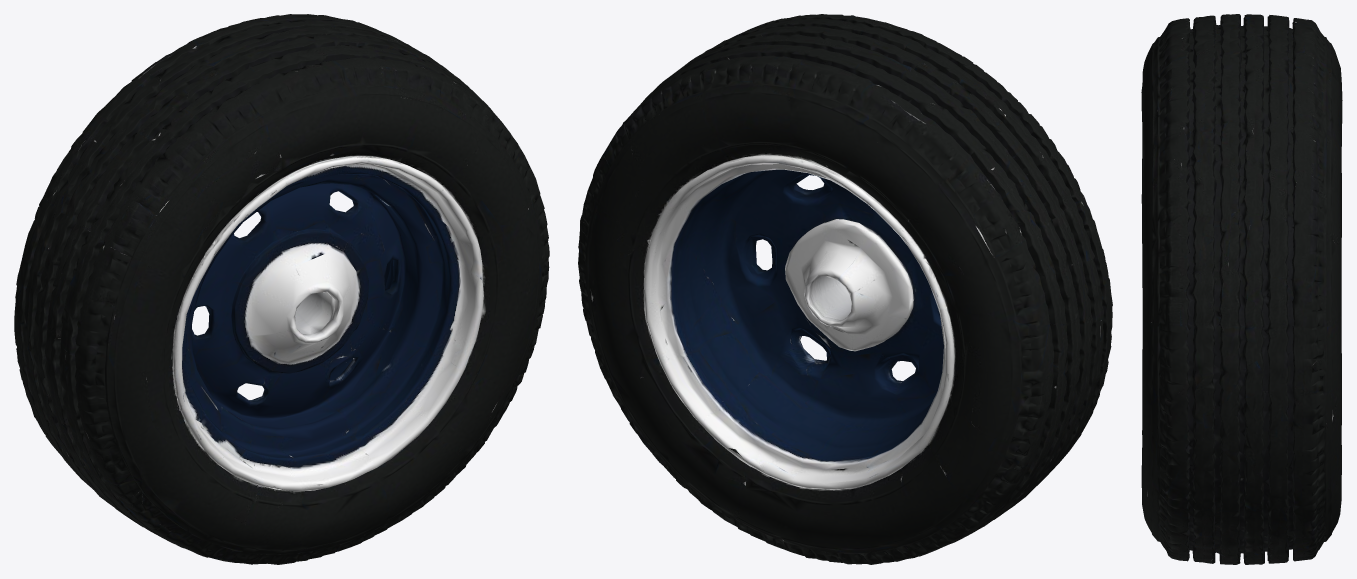
The model's file is Meshy_AI_Classic_Truck_Tire_20261118_texture_41460tris.glb.
3 renders of one model, left to right at view 1: azimuth 30°, elevation 25°; view 2: azimuth 150°, elevation 25°; view 3: azimuth 270°, elevation 25°, orthographic.
Visible parts, largest first — view 1: Mesh_0; view 2: Mesh_0; view 3: Mesh_0.
Part boxes in pixels (<box>): Mesh_0: <box>14,14,549,564</box>; Mesh_0: <box>578,14,1112,564</box>; Mesh_0: <box>1141,14,1342,564</box>.
Bounding box in the file's own units: 190 × 190 × 69.48.
1 material, 1 textured.
